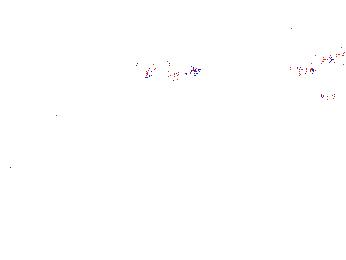glassfish: (1, 95, 69, 146)
red belly glassfish: (282, 61, 315, 76), (286, 24, 318, 39), (317, 91, 344, 104)
redtail glassfish: (141, 57, 201, 83), (315, 49, 346, 67)
